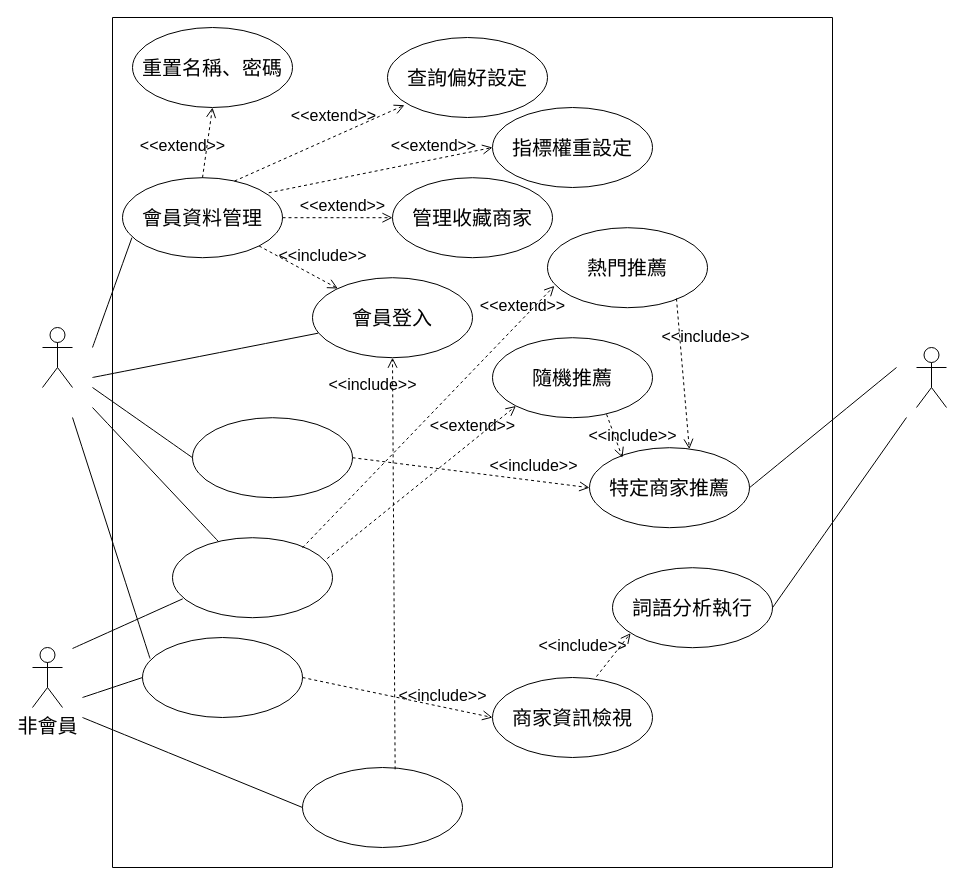
Image size: 968x885. Some labels were removed from this diagram. Each missing label, with the centre of its shape:
一般推薦: [252,577]
偏好推薦: [272,457]
商家條件查詢: [222,677]
會員: [57,357]
會員註冊: [382,807]
系統: [931,377]
